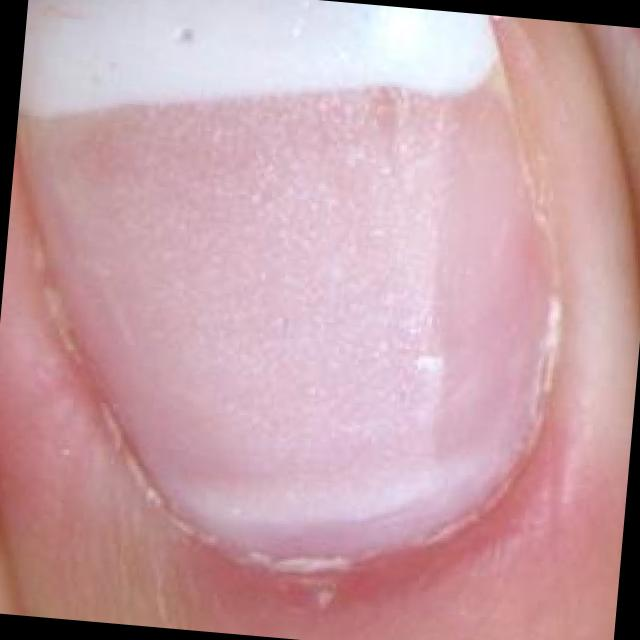Nail: (15, 0, 549, 565)
